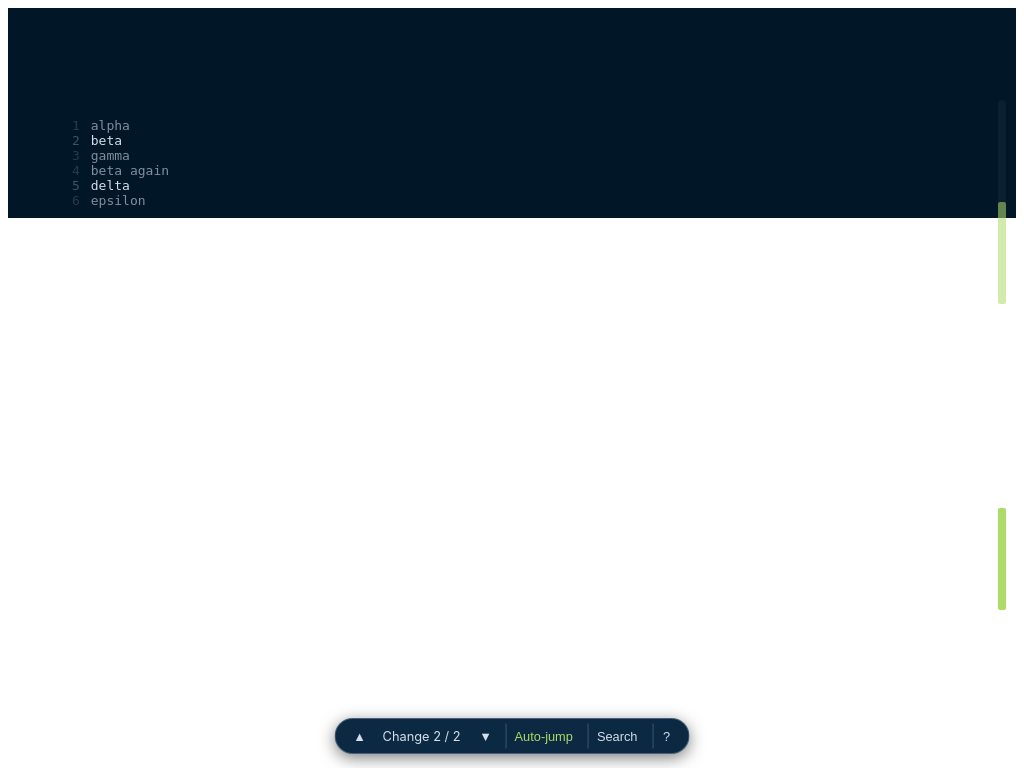
Test: auto-jump › can be turned off and remembers it
Later steps or results of the test are not shown.
Click the button with class "change-nav-extra" showing "Auto-jump" at (544, 736), box [506,723,582,749]
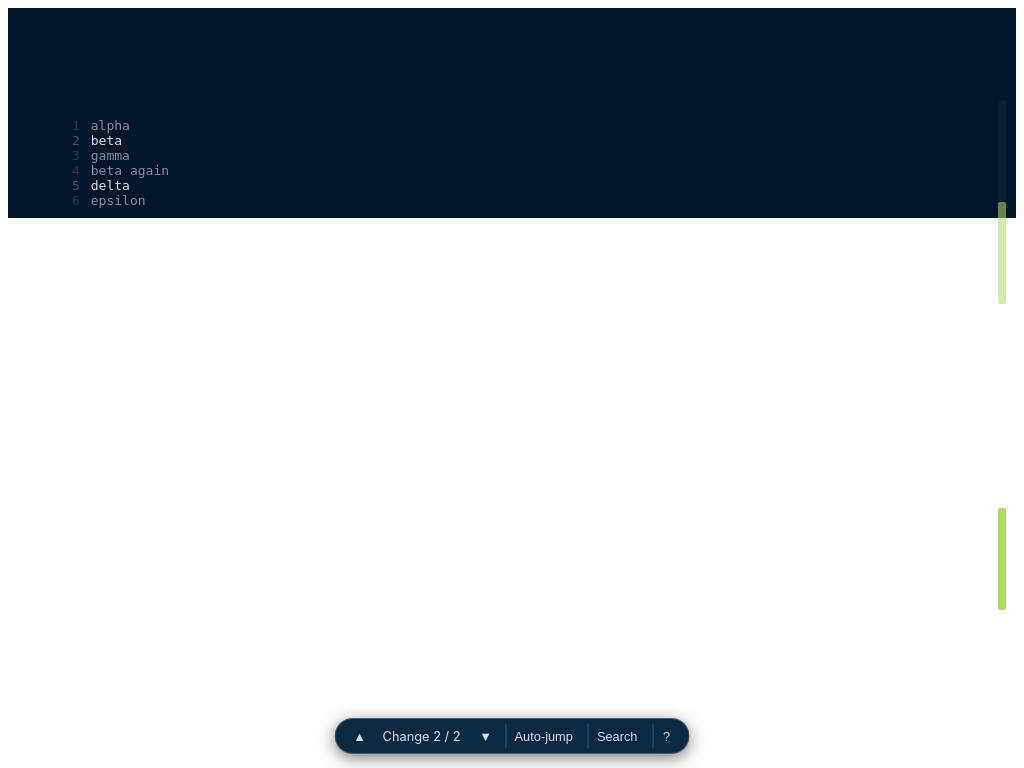
Check: the button with class "change-nav-extra" is not pressed, box [506,723,582,749]
